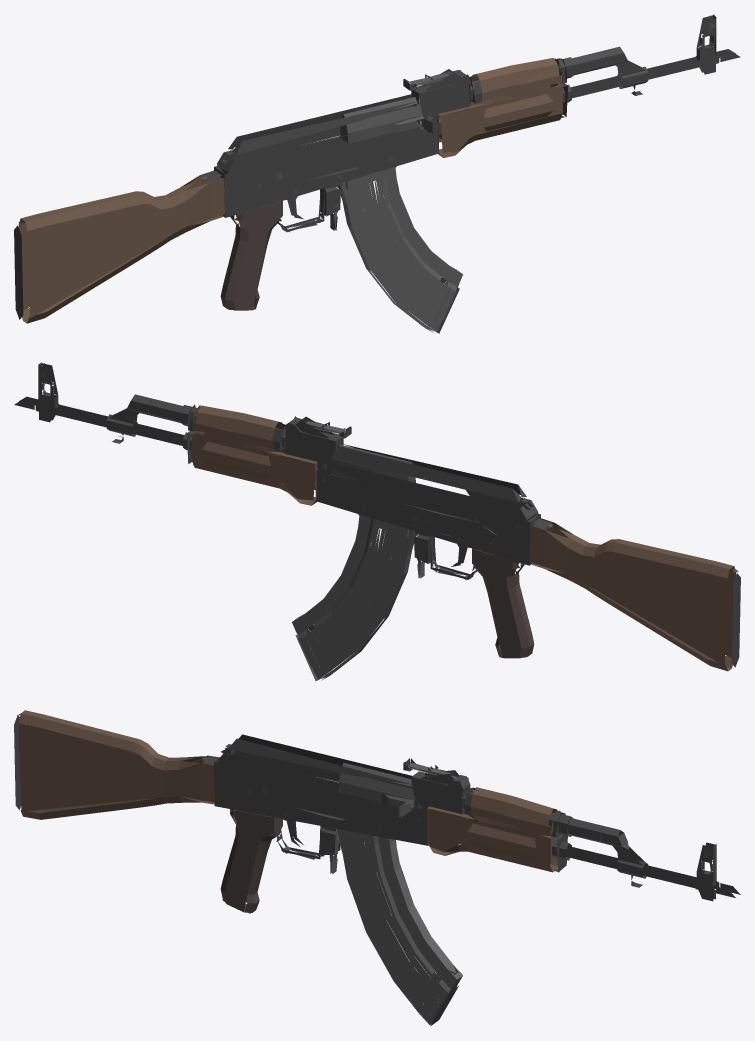
3 views of the same model, one above another, from view 1: azimuth 30°, elevation 25°; view 2: azimuth 150°, elevation 25°; view 3: azimuth 330°, elevation 25° (orthographic).
Parts seen in each view (by area): view 1: body, mag, bolt; view 2: body, mag, bolt; view 3: body, mag, bolt.
Part boxes in pixels (left/top/right/bottom): body: left=14, top=14, right=740, bottom=323; mag: left=338, top=166, right=462, bottom=333; bolt: left=340, top=97, right=432, bottom=143; body: left=14, top=362, right=740, bottom=671; mag: left=292, top=514, right=416, bottom=681; bolt: left=333, top=444, right=415, bottom=482; body: left=14, top=710, right=740, bottom=913; mag: left=336, top=829, right=462, bottom=1026; bolt: left=338, top=763, right=414, bottom=817.
Size of the model in its own units: 0.88 by 0.2999 by 0.0512.
